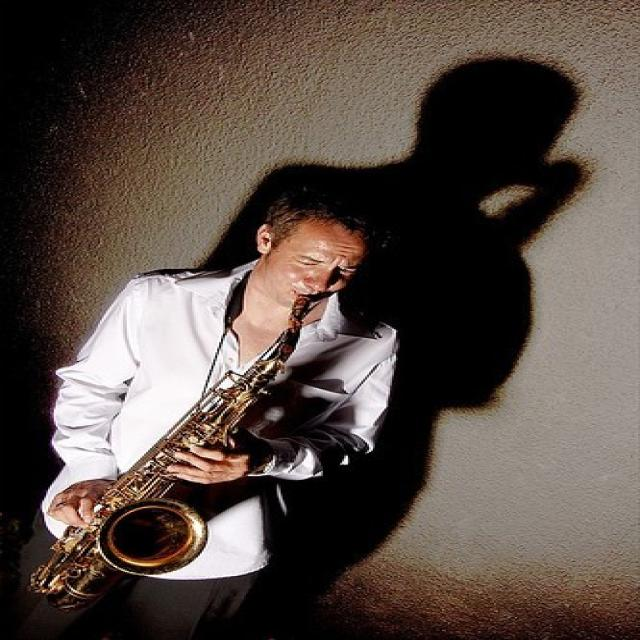saxophone: (28, 292, 316, 611)
